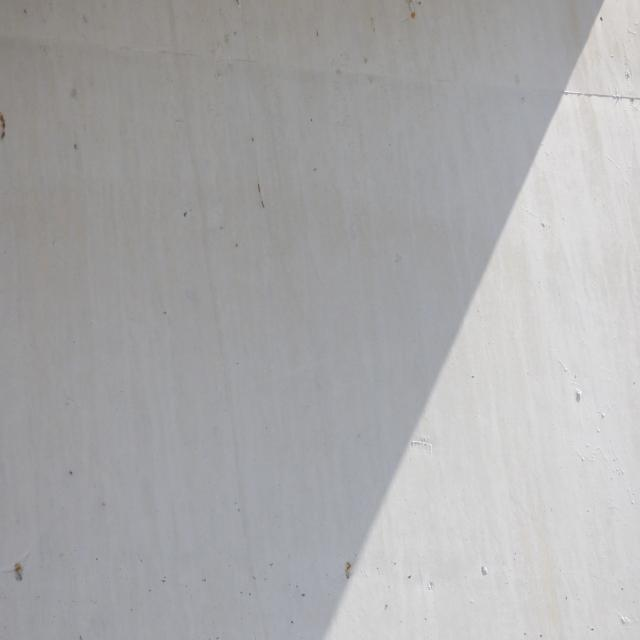corrosion: (400, 0, 424, 22), (0, 102, 9, 144), (13, 562, 23, 572), (345, 561, 354, 572)
